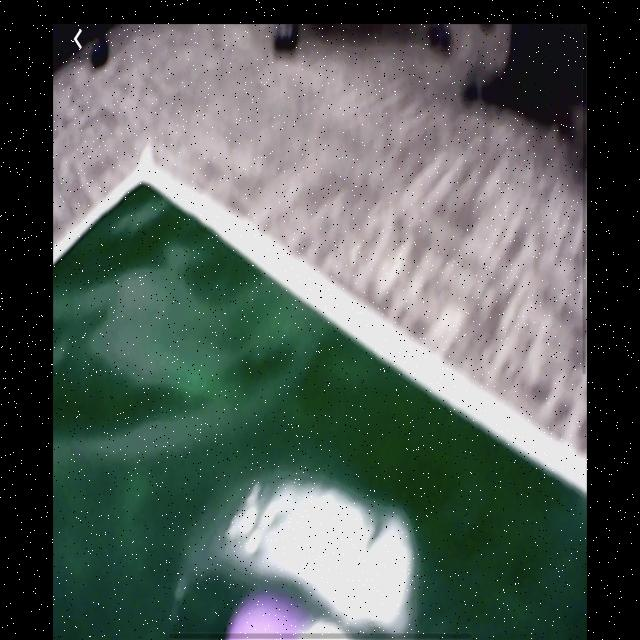ball: (226, 590, 317, 639)
